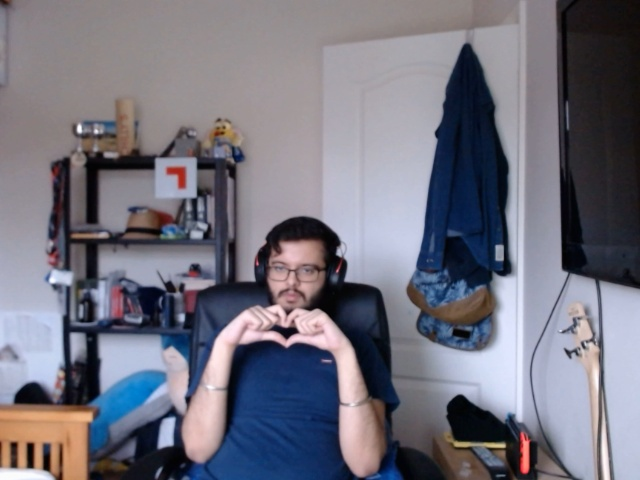Heart: (247, 302, 327, 360)
